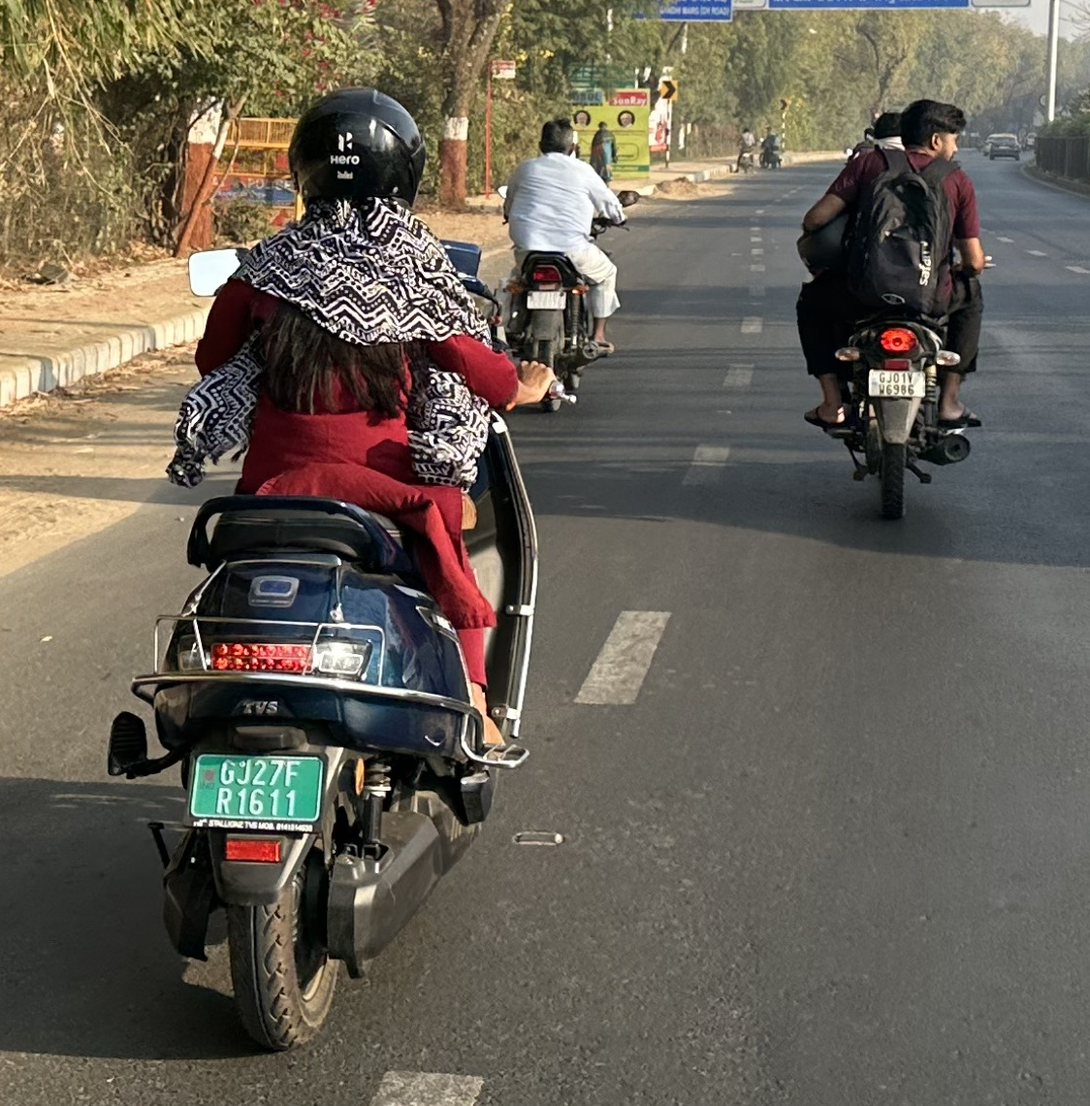BikeWithRider: (95, 77, 557, 1065), (780, 88, 1005, 530), (485, 107, 637, 407)
Helmet: (273, 78, 437, 235)
NoHelmet: (892, 95, 953, 161), (915, 97, 970, 163), (530, 112, 585, 163)
